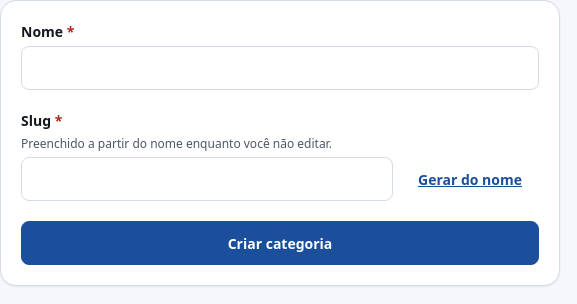
CategoryForm › fills the slug from the name while it was not touched
Type "Matemática Aplicada" into the field labelled "Nome *" at (280, 68), box [21,46,539,90]
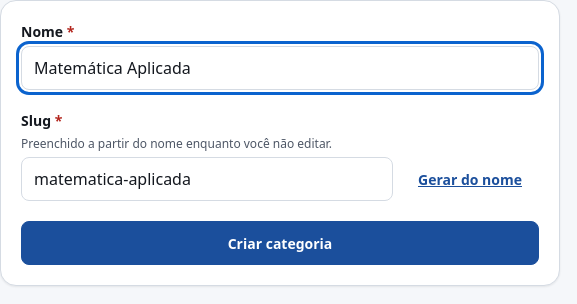
Now the field labelled "Slug *" holds "matematica-aplicada", box [21,157,393,201]
